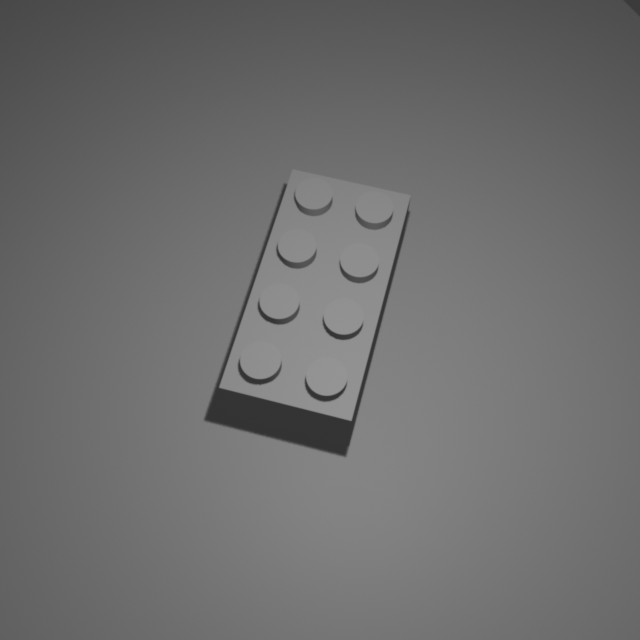lego_2x4: (218, 162, 412, 446)
